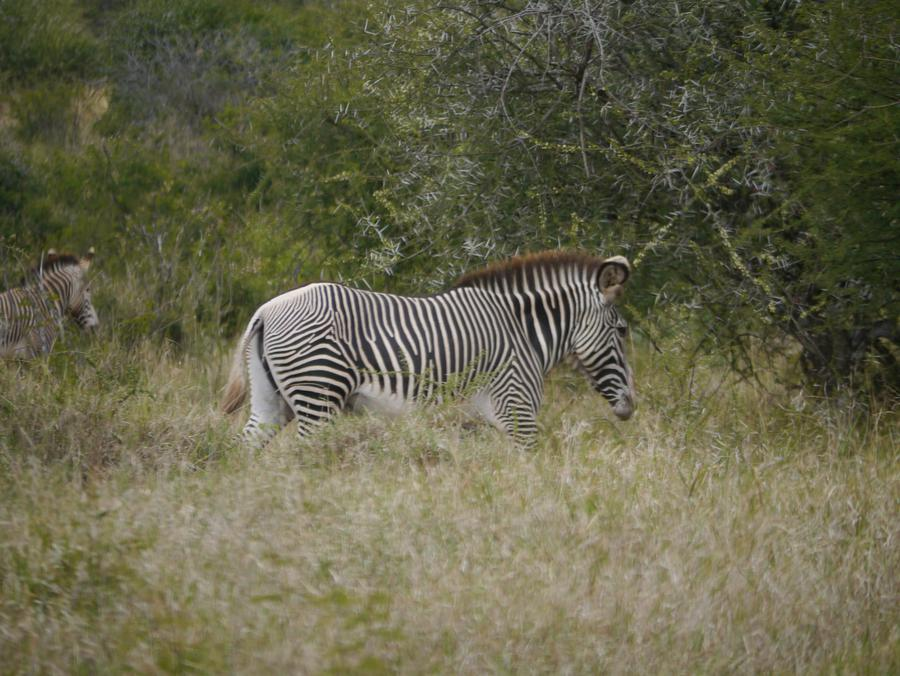zebra_grevys: (242, 270, 547, 417)
